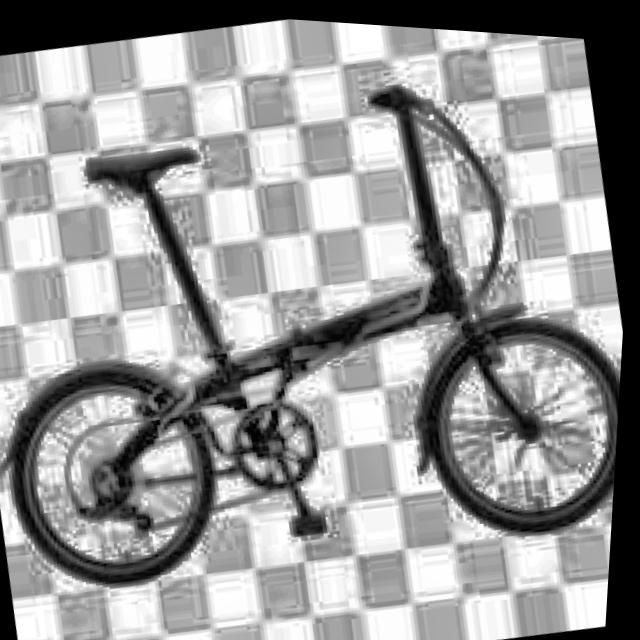bike: (0, 21, 639, 629)
